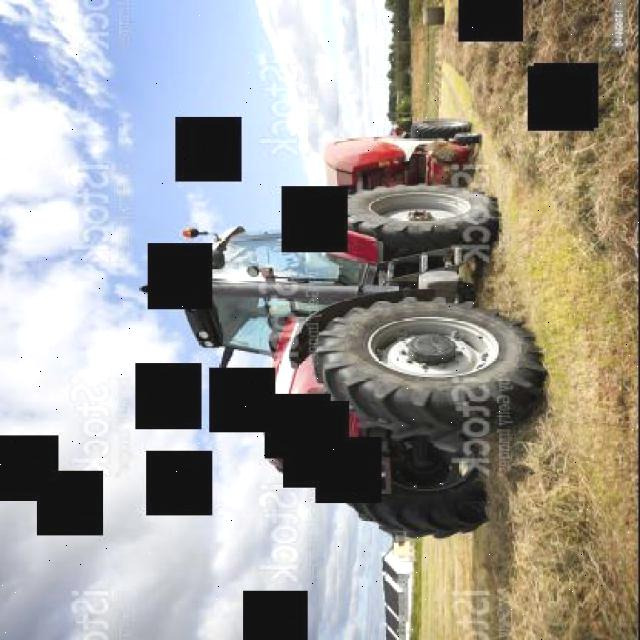Tratores - v5 YOLO V8L 2024-11-13: (120, 101, 603, 544)
